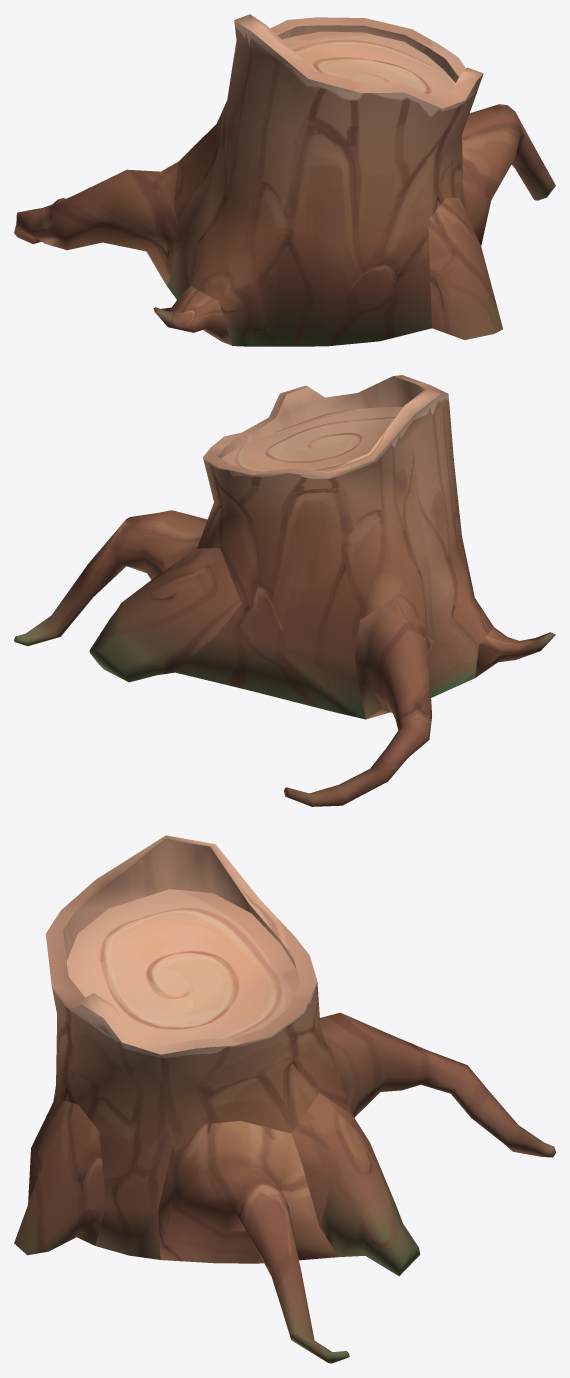
Rendered from Mesh_Treestump.fbx.
The picture shows the model from 3 angles, top to bottom: view 1: azimuth 30°, elevation 25°; view 2: azimuth 150°, elevation 25°; view 3: azimuth 270°, elevation 25°; orthographic projection. The views are drawn at different scales.
Parts seen in each view (by area): view 1: Stump; view 2: Stump; view 3: Stump.
Boxes of the visible parts, x1,y1,x2,y2 form: Stump: (14,14,555,346); Stump: (14,375,555,806); Stump: (14,835,555,1363).
Bounding box in the file's own units: 209 × 130 × 186.
